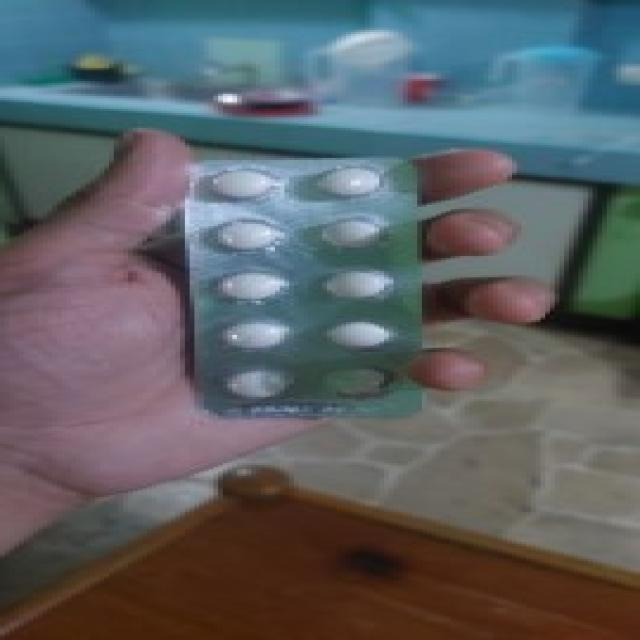Cacat: (185, 153, 434, 420)
Kemasan: (310, 359, 415, 409)
